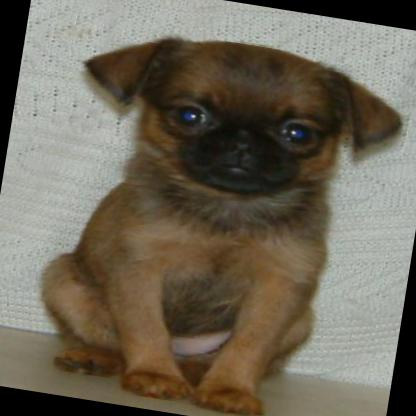Brabancon_griffon: (20, 15, 411, 416)
